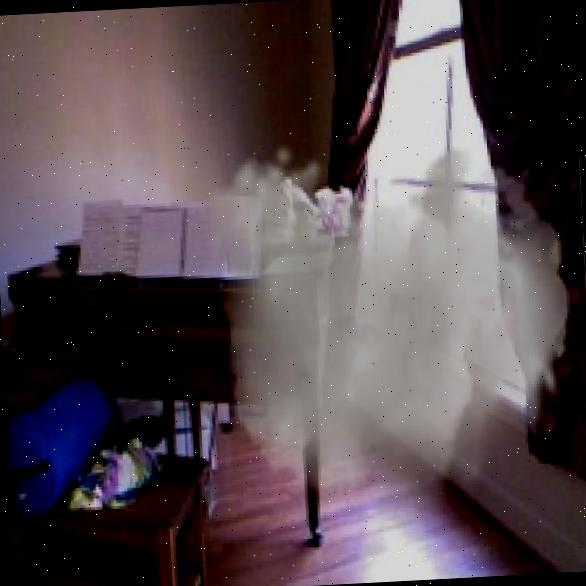smoke: (200, 125, 581, 557)
